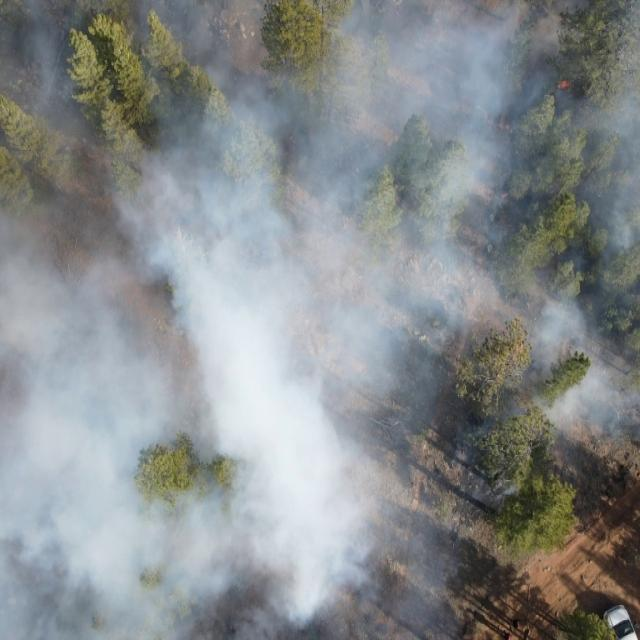fire: (556, 77, 575, 91), (499, 189, 512, 202)
smoke: (0, 0, 461, 640), (460, 0, 640, 505)
